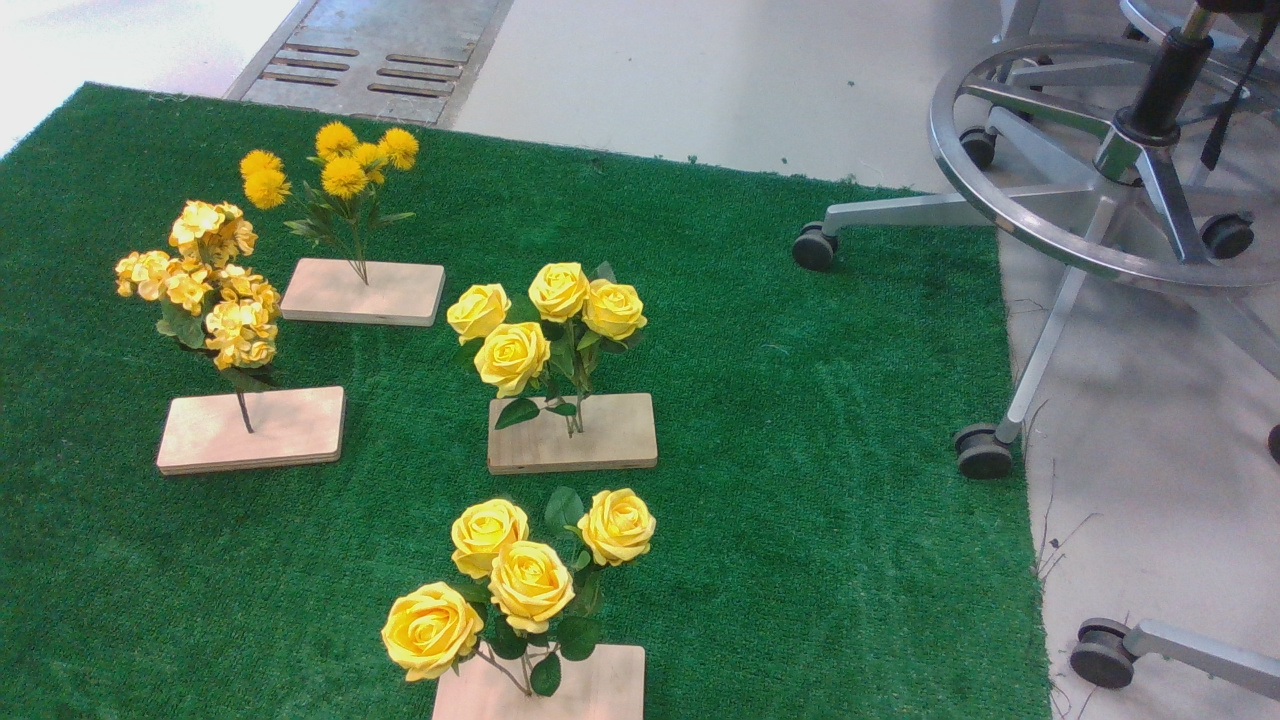dandelion: (234, 120, 442, 214)
geranium: (116, 213, 285, 395)
rose: (376, 479, 678, 714), (448, 257, 661, 445)
